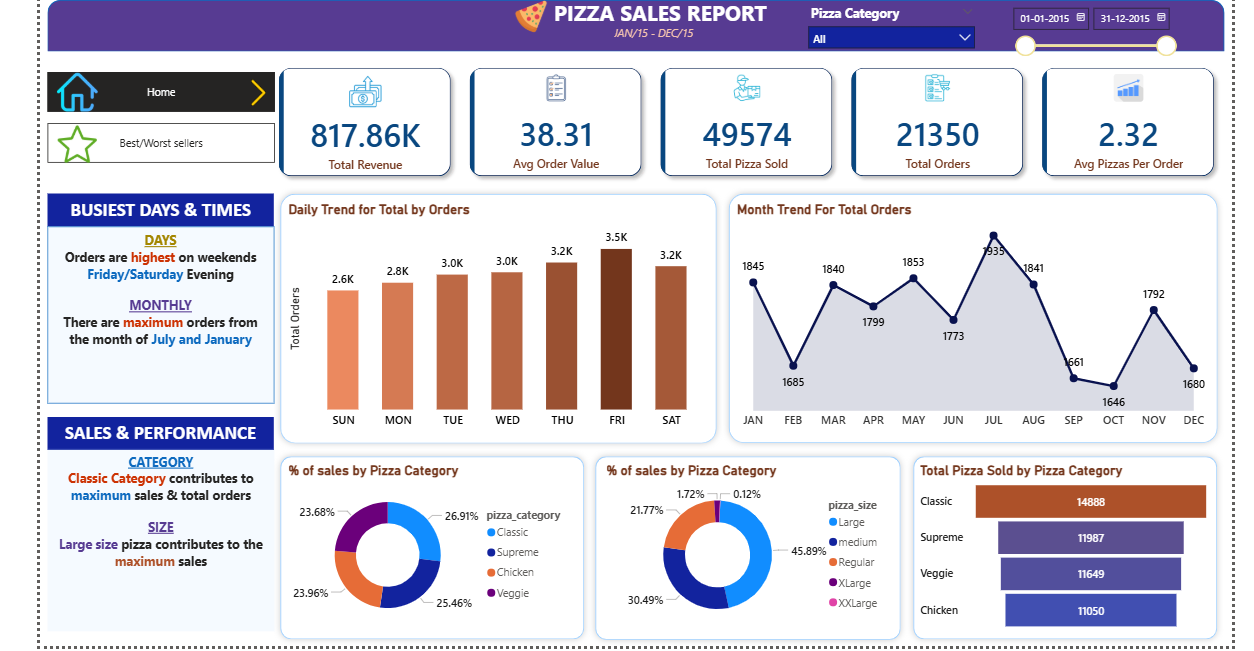

This screenshot's page, from the dashboard's own definition file:
{"tool":"powerbi","page":{"name":"Home","canvas":[1500,820],"ordinal":0},"visuals":[{"type":"cardVisual","fields":{"Data":["pizza_sales.Total Revenue","pizza_sales.Avg Order Value","pizza_sales.Total Pizza Sold","pizza_sales.Total Orders","pizza_sales.Avg Pizzas Per Order"]},"box":[278.4,72.5,1221.6,178.4],"z":0},{"type":"shape","box":[9.8,7.8,1480.4,64.7],"z":1000},{"type":"textbox","box":[641.2,0,302,51],"z":2000},{"type":"textbox","box":[717.6,33.3,121.6,31.4],"z":3000},{"type":"image","box":[594.1,7.8,47.1,41.2],"z":4000},{"type":"shape","box":[294.5,243.6,564.7,330],"z":5000},{"type":"clusteredColumnChart","title":"Daily Trend for Total  by Orders","fields":{"Category":["pizza_sales.Order Day"],"Y":["pizza_sales.Total Orders"]},"box":[307.5,261.2,540,295],"z":6000},{"type":"textbox","box":[507.5,588.6,267.9,47.2],"z":7000},{"type":"shape","box":[858.7,244,630.7,329.3],"z":8000},{"type":"areaChart","title":"Month Trend For Total Orders","fields":{"Category":["pizza_sales.Month Name"],"Y":["pizza_sales.Total Orders"]},"box":[871.1,260,604.4,295.6],"z":9000},{"type":"shape","box":[294,574,398,246],"z":10000},{"type":"shape","box":[691.1,573.3,400,246.7],"z":11000},{"type":"shape","box":[1090,574,398,246],"z":12000},{"type":"donutChart","title":"% of sales by Pizza Category","fields":{"Category":["pizza_sales.pizza_category"],"Y":["pizza_sales.Total Revenue"]},"box":[308,588,368,214],"z":13000},{"type":"donutChart","title":"% of sales by Pizza Category","fields":{"Y":["pizza_sales.Total Revenue"],"Category":["pizza_sales.pizza_size"]},"box":[706.7,588.9,368.9,213.3],"z":14000},{"type":"funnel","title":"Total Pizza Sold by Pizza Category","fields":{"Category":["pizza_sales.pizza_category"],"Y":["pizza_sales.Total Pizza Sold"]},"box":[1101.3,588,374.7,216],"z":15000},{"type":"textbox","box":[9.4,250.9,284.9,41.5],"z":16000},{"type":"textbox","box":[10,292.5,285,222.5],"z":17000},{"type":"textbox","box":[9.4,532,284.9,41.5],"z":18000},{"type":"textbox","box":[10,572.5,285,230],"z":19000},{"type":"slicer","fields":{"Values":["pizza_sales.pizza_category"]},"box":[956.4,8.2,229.1,63.6],"z":20000},{"type":"slicer","fields":{"Values":["pizza_sales.order_date"]},"box":[1210.4,7.5,226.9,83.6],"z":21000},{"type":"pageNavigator","box":[10,98,286,50],"z":21001},{"type":"pageNavigator","box":[10,162,286,50],"z":21002},{"type":"image","box":[252,107,44,33],"z":21003},{"type":"image","box":[0,98,94.1,51],"z":21004},{"type":"image","box":[7.8,164.7,78.4,49],"z":21005}]}

Visuals, with their boxes on the page's 1500x820 design canvas (x1, y1, x2, y2). These are canvas units, not pixel positions in the 1254x651 screenshot, which may show the page scaled, cropped or inside an application window:
cardVisual - pizza_sales.Total Revenue x pizza_sales.Avg Order Value: 278 72 1500 251
shape: 10 8 1490 72
textbox: 641 0 943 51
textbox: 718 33 839 65
image: 594 8 641 49
shape: 294 244 859 574
"Daily Trend for Total  by Orders" clusteredColumnChart: 308 261 848 556
textbox: 508 589 775 636
shape: 859 244 1489 573
"Month Trend For Total Orders" areaChart: 871 260 1476 556
shape: 294 574 692 820
shape: 691 573 1091 820
shape: 1090 574 1488 820
"% of sales by Pizza Category" donutChart: 308 588 676 802
"% of sales by Pizza Category" donutChart: 707 589 1076 802
"Total Pizza Sold by Pizza Category" funnel: 1101 588 1476 804
textbox: 9 251 294 292
textbox: 10 292 295 515
textbox: 9 532 294 574
textbox: 10 572 295 802
slicer - pizza_sales.pizza_category: 956 8 1186 72
slicer - pizza_sales.order_date: 1210 8 1437 91
pageNavigator: 10 98 296 148
pageNavigator: 10 162 296 212
image: 252 107 296 140
image: 0 98 94 149
image: 8 165 86 214
